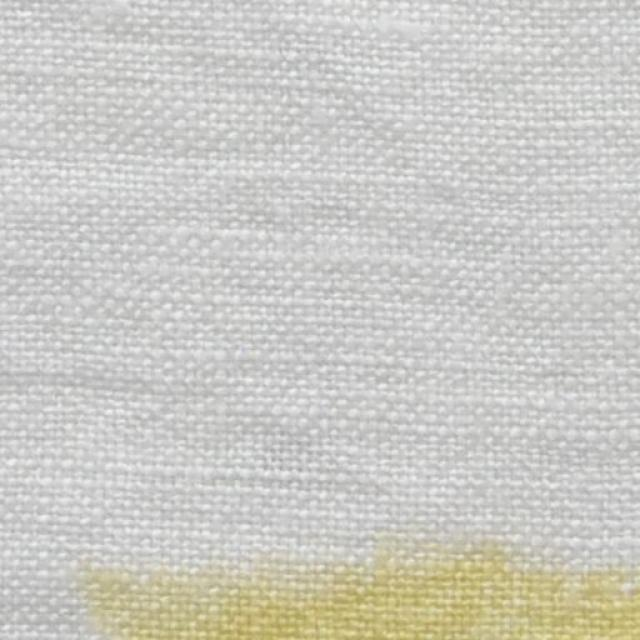Stain: (85, 548, 640, 640)
